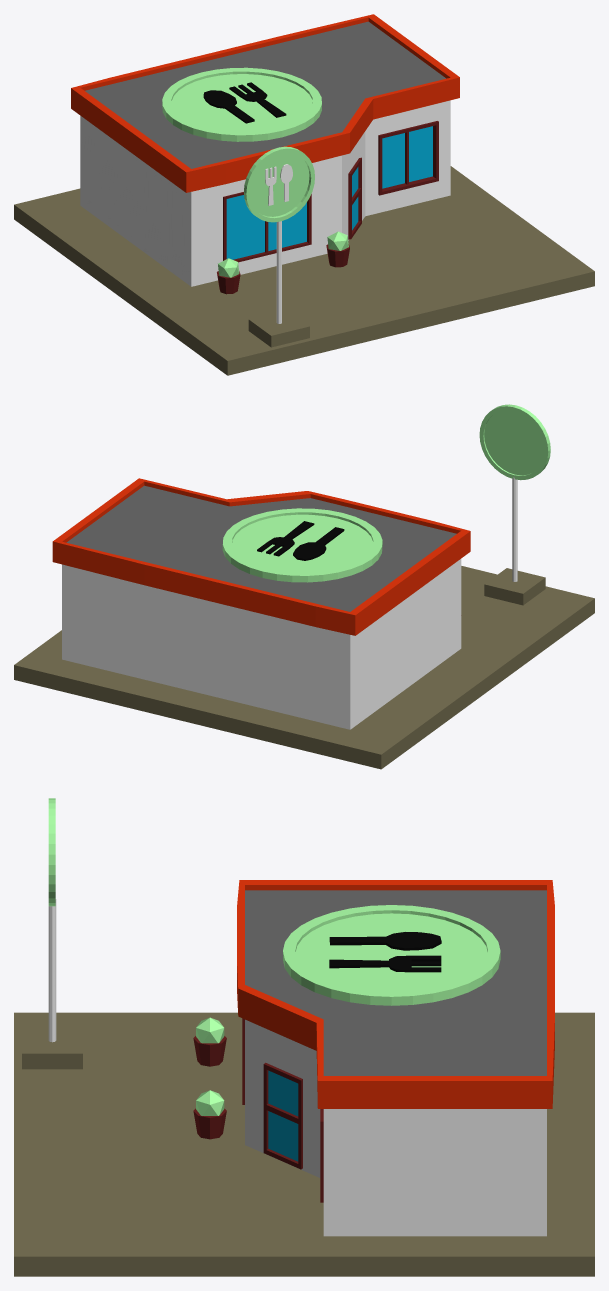
File: FOOD.fbx
3 views of the same model, one above another, from view 1: azimuth 30°, elevation 25°; view 2: azimuth 150°, elevation 25°; view 3: azimuth 270°, elevation 25° (orthographic). The views are drawn at different scales.
Visible parts, largest first — view 1: Cube.003; view 2: Cube.003; view 3: Cube.003.
Part boxes in pixels (x1=…): Cube.003: x1=14, y1=14, x2=594, y2=375; Cube.003: x1=14, y1=404, x2=594, y2=769; Cube.003: x1=14, y1=798, x2=594, y2=1276.
Size of the model in its own units: 516 by 270 by 520.
